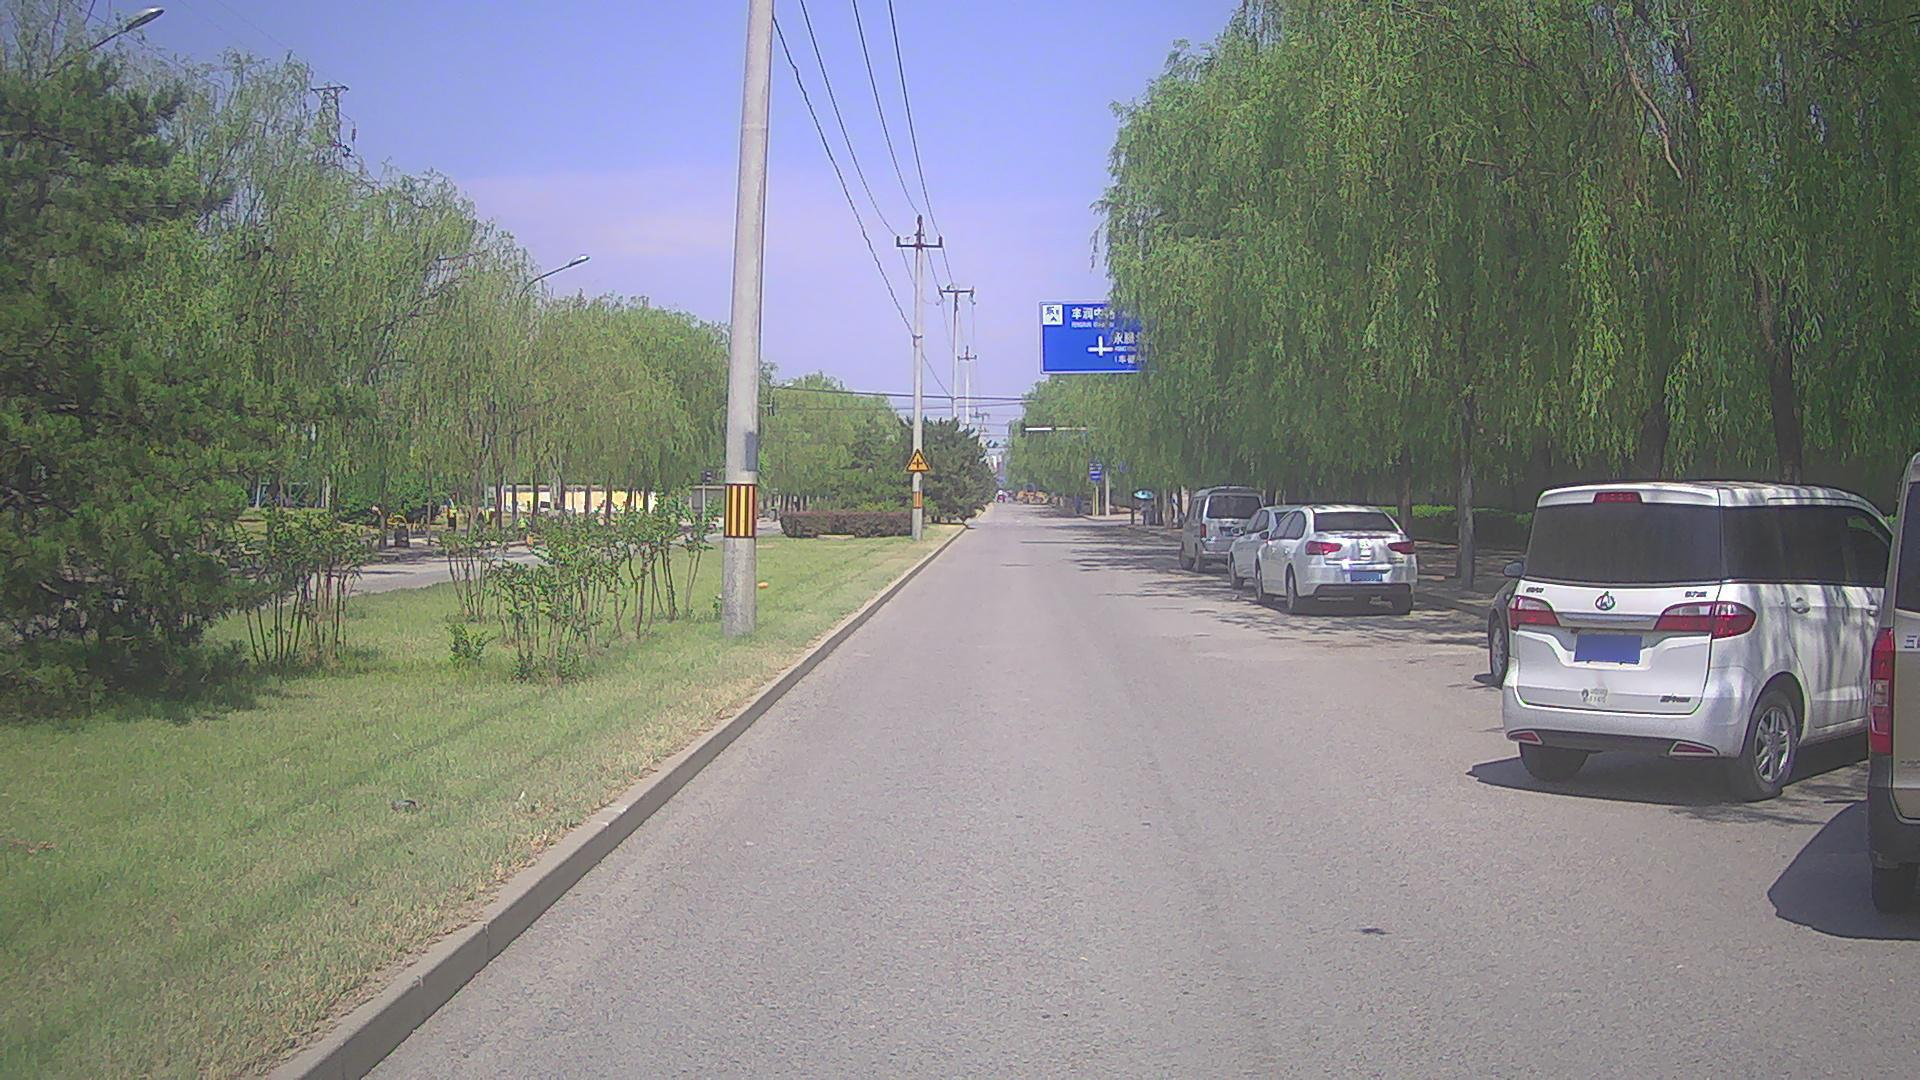car: (1500, 481, 1912, 802), (1252, 505, 1418, 616), (1226, 503, 1344, 590)
ignore: (1867, 447, 1920, 916), (1486, 559, 1524, 686), (995, 481, 1051, 505)
pedestrian: (444, 491, 459, 542), (1166, 491, 1180, 524), (1139, 496, 1153, 525), (1073, 492, 1083, 514)
van: (1178, 484, 1269, 573)
